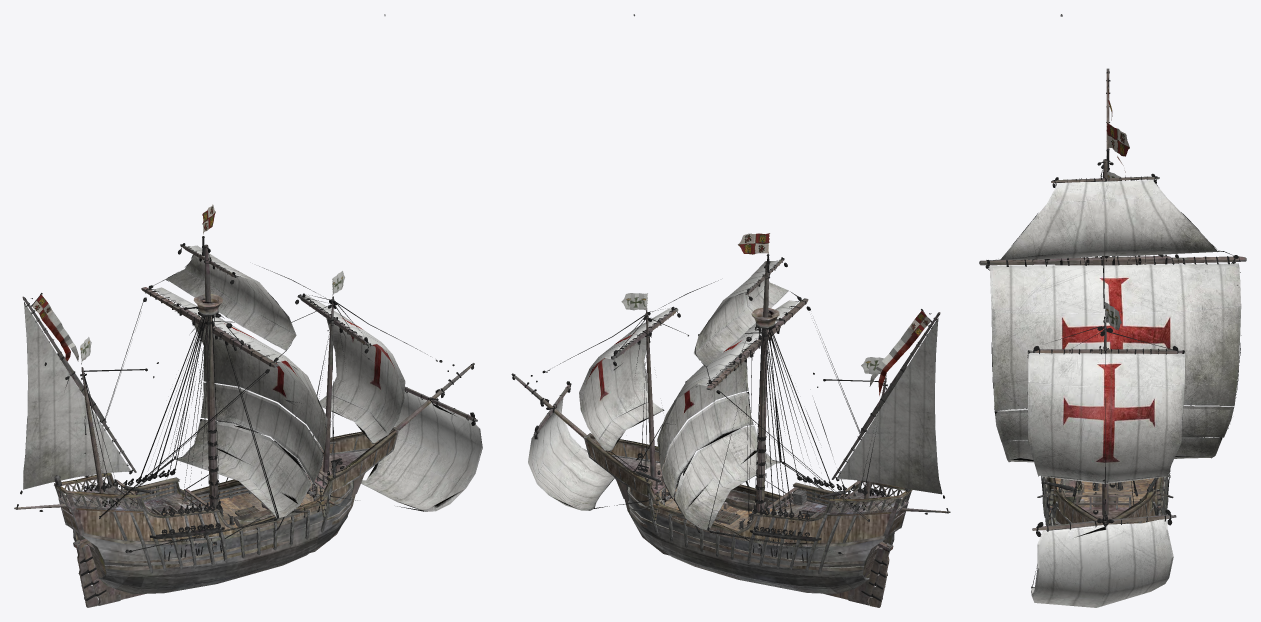
Rendered from santa-maria.glb.
3 views of the same model, side by side, from view 1: azimuth 30°, elevation 25°; view 2: azimuth 150°, elevation 25°; view 3: azimuth 270°, elevation 25° (orthographic). The views are drawn at different scales.
Visible parts, largest first — view 1: pCylinder15_Kanat_1, pCylinder15_Kanat_1_Kanat_polySurface1707_polySurface1702_po; view 2: pCylinder15_Kanat_1, pCylinder15_Kanat_1_Kanat_polySurface1707_polySurface1702_po; view 3: pCylinder15_Kanat_1, pCylinder15_Kanat_1_Kanat_polySurface1707_polySurface1702_po.
Boxes of the visible parts, x1,y1,x2,y2 form: pCylinder15_Kanat_1: [14, 204, 482, 607]; pCylinder15_Kanat_1_Kanat_polySurface1707_polySurface1702_po: [16, 14, 482, 600]; pCylinder15_Kanat_1: [511, 233, 950, 607]; pCylinder15_Kanat_1_Kanat_polySurface1707_polySurface1702_po: [512, 14, 948, 601]; pCylinder15_Kanat_1: [979, 68, 1246, 607]; pCylinder15_Kanat_1_Kanat_polySurface1707_polySurface1702_po: [985, 14, 1241, 586].
Size of the model in its own units: 12.47 by 14 by 5.55.
Materials: 7 (7 with a texture image).
